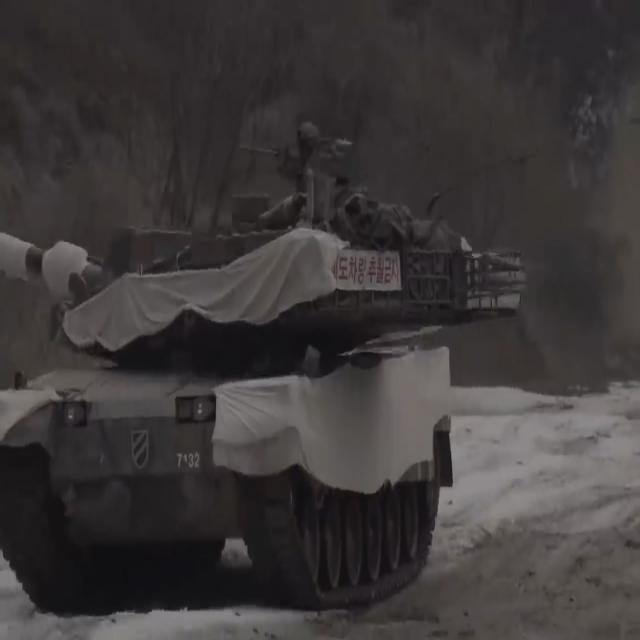korea tank: (1, 115, 525, 615)
